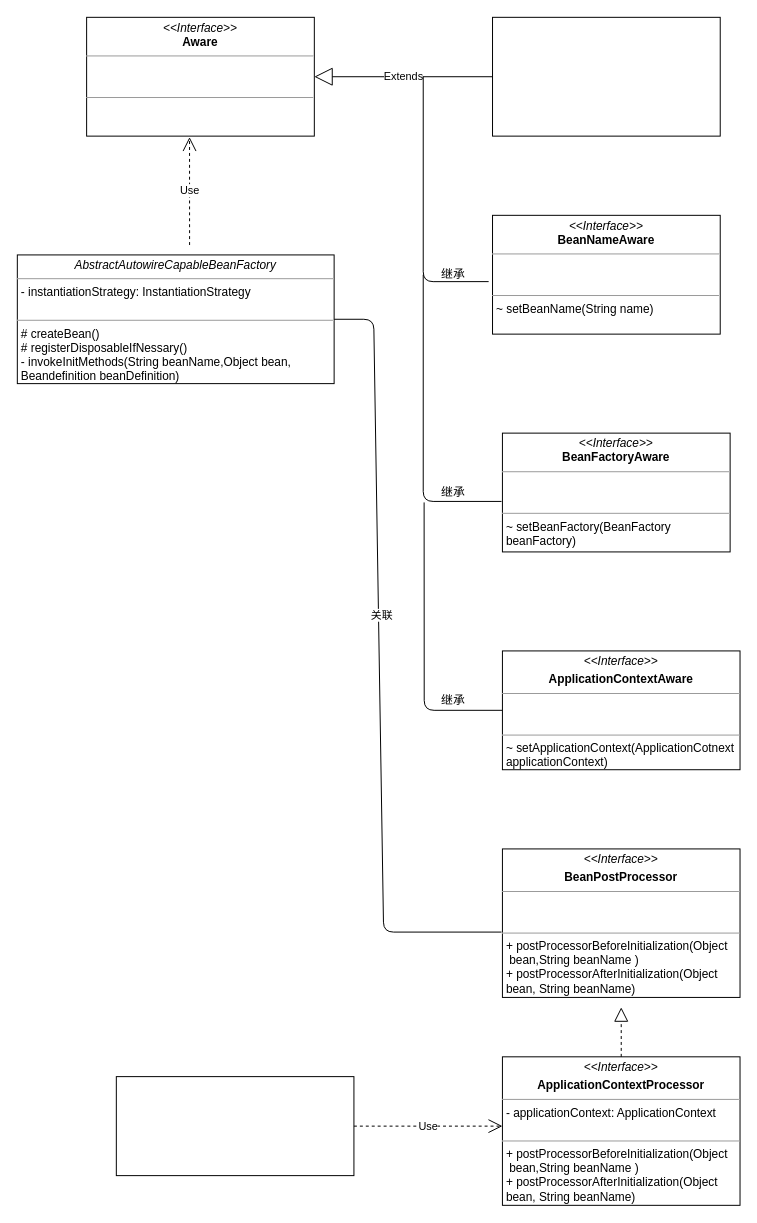
Some shapes in this 757 by 1223 pixel diagram are drawn without their labels. The centre of each missing label's shape, as x and y in pixels:
"<<Interface>> BeanClassloaderAware ~ setBeanClassloader(Classloader classloader)" goes at (x=606, y=76).
"AbatractApplicationContext - applicationContext: ApplicationContext + refresh()" goes at (x=234, y=1126).
